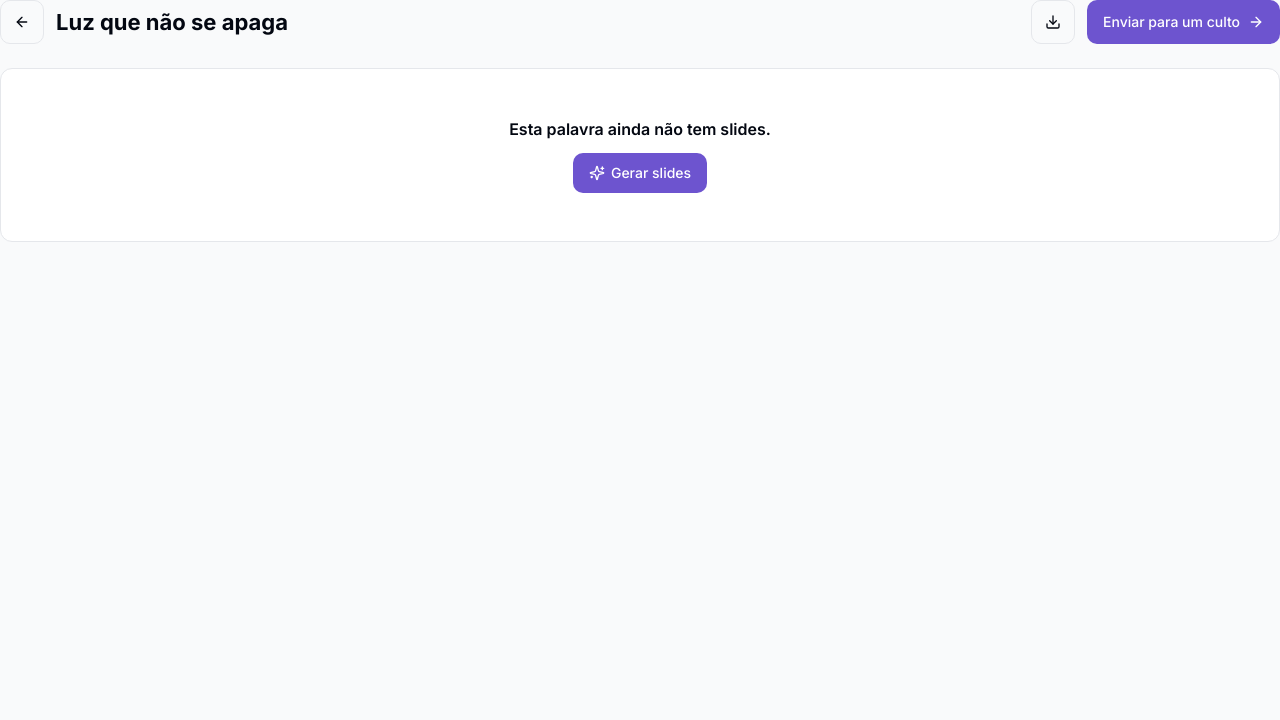
Test: SermonSlidesPage › sem slides mostra o estado vazio com Gerar slides
Expected: the text "Esta palavra ainda não tem slides." is shown, [509,117,771,141]
Click the button "Gerar slides".
click(640, 173)  # box [573,153,707,193]
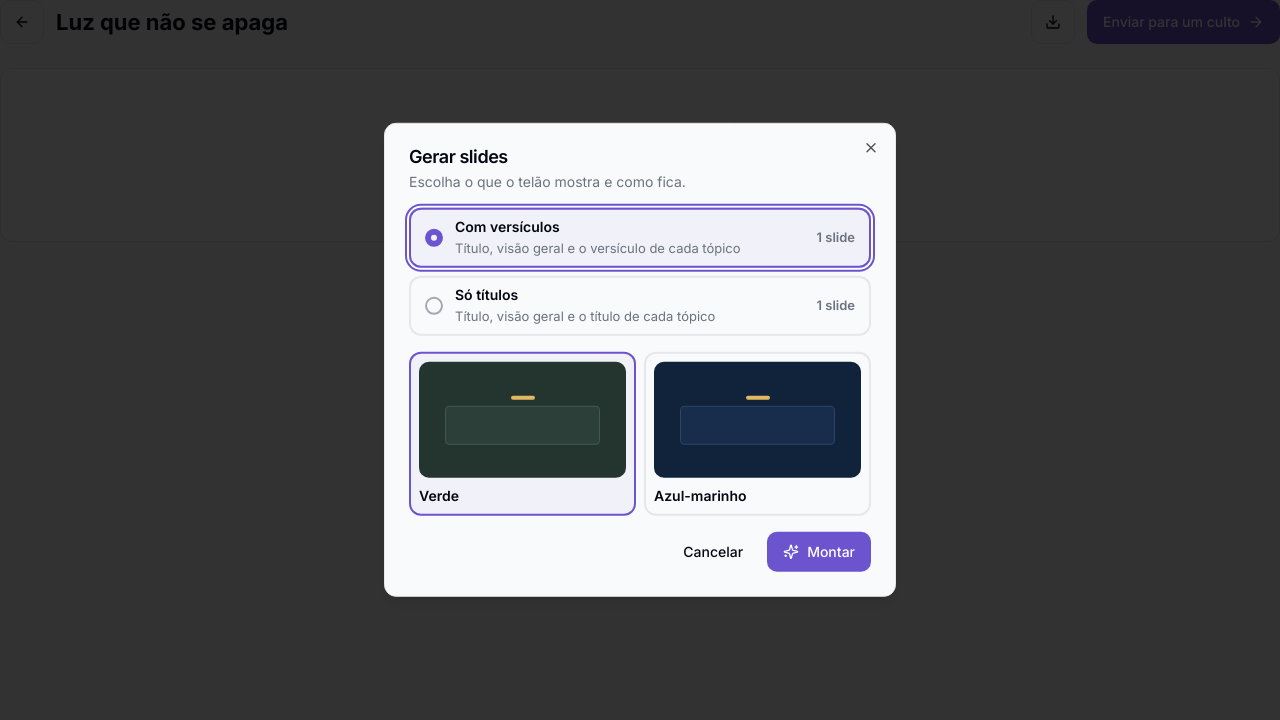
Result: the dialog "Gerar slides" is shown at [384,123,896,597]
